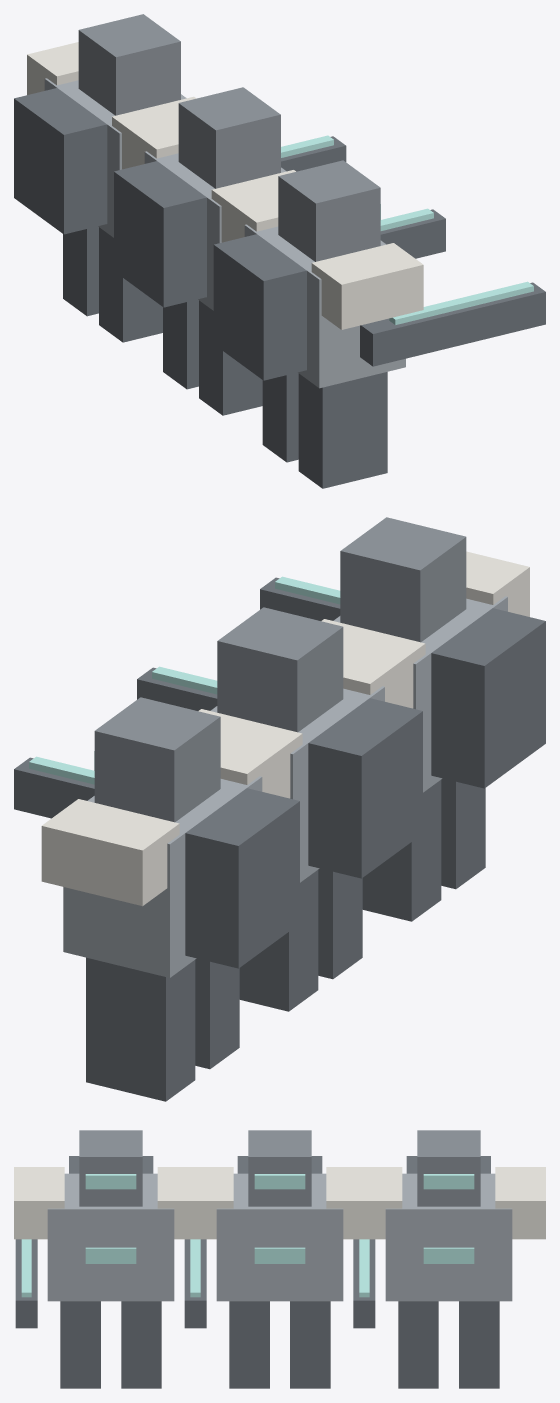
The model's file is formation_front.glb.
The picture shows the model from 3 angles, top to bottom: view 1: azimuth 30°, elevation 25°; view 2: azimuth 150°, elevation 25°; view 3: azimuth 270°, elevation 25°; orthographic projection. The views are drawn at different scales.
Parts seen in each view (by area): view 1: future_formation_front; view 2: future_formation_front; view 3: future_formation_front.
Boxes of the visible parts, bbox=[...] form: future_formation_front: bbox=[14, 14, 545, 488]; future_formation_front: bbox=[14, 517, 545, 1101]; future_formation_front: bbox=[14, 1130, 545, 1388].
Size of the model in its own units: 0.4601 by 0.4839 by 0.9995.
